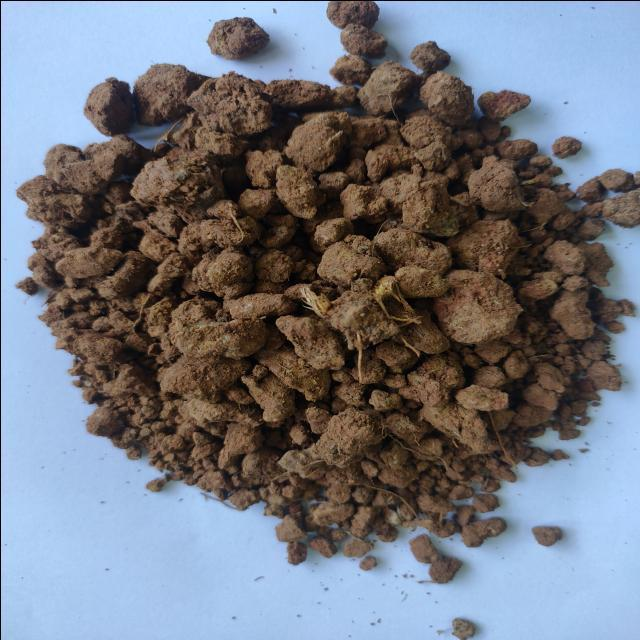soil: (94, 133, 572, 439)
